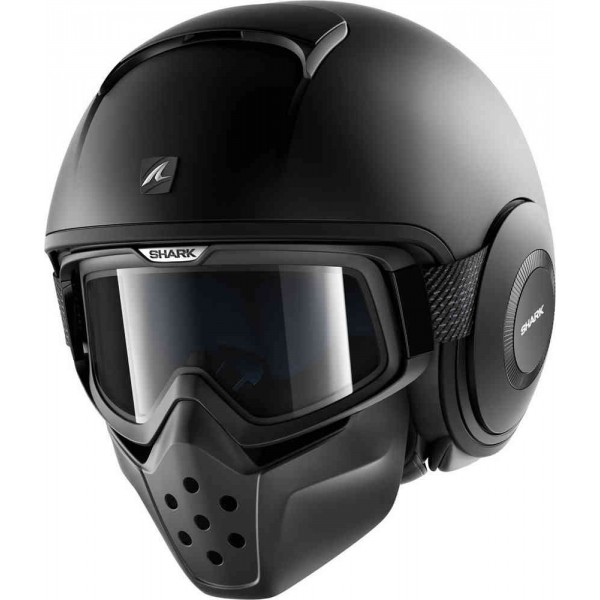with_helmet: (40, 1, 561, 600)
